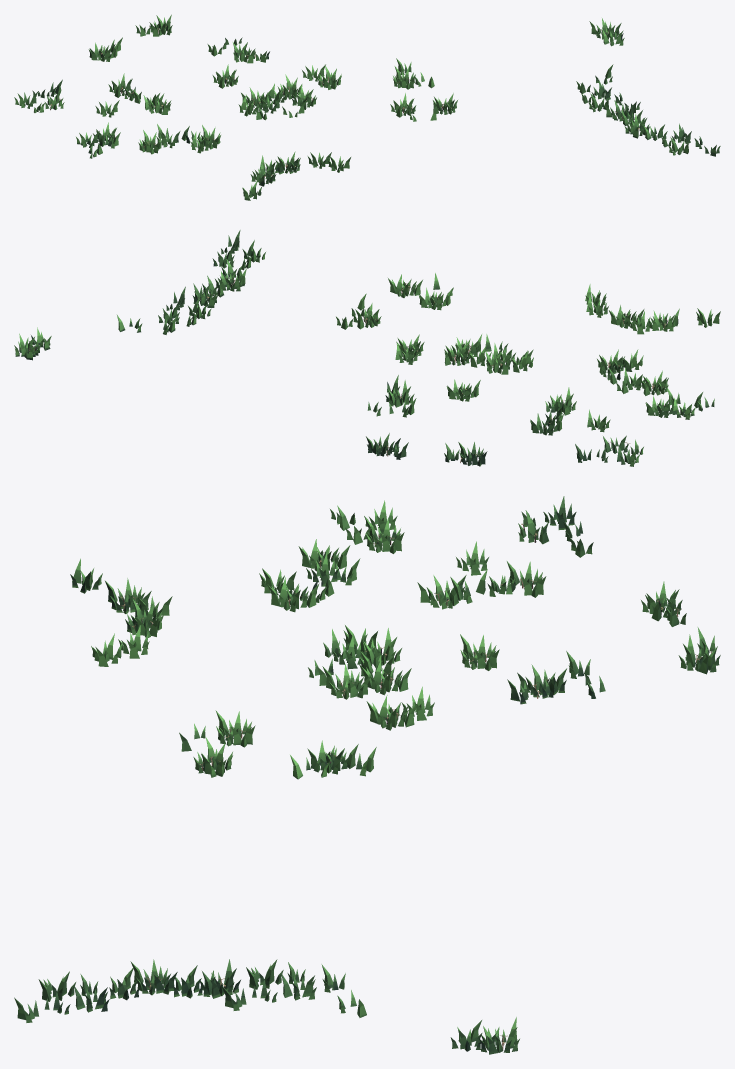
File: Plant_02.FBX
The picture shows the model from 3 angles, top to bottom: view 1: azimuth 30°, elevation 25°; view 2: azimuth 150°, elevation 25°; view 3: azimuth 270°, elevation 25°; orthographic projection. The views are drawn at different scales.
Parts seen in each view (by area): view 1: Plant_02; view 2: Plant_02; view 3: Plant_02.
Boxes of the visible parts, x1=… form: Plant_02: x1=14, y1=14, x2=720, y2=200; Plant_02: x1=14, y1=230, x2=720, y2=466; Plant_02: x1=14, y1=496, x2=720, y2=1054.
Bounding box in the file's own units: 31.42 × 3.52 × 20.63.
